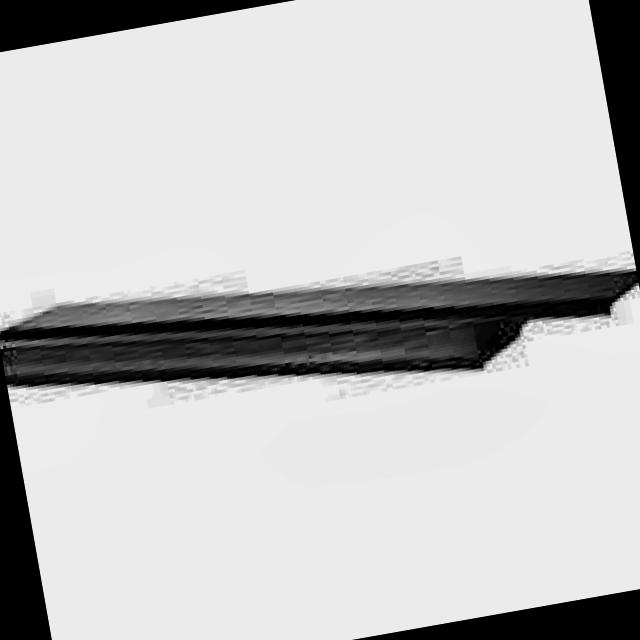Battery: (0, 205, 640, 449)
